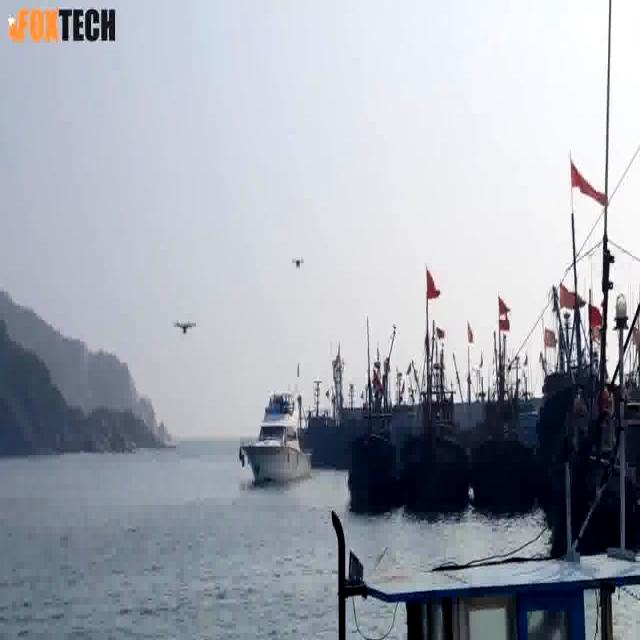drone: (171, 314, 201, 340), (288, 249, 306, 278)
